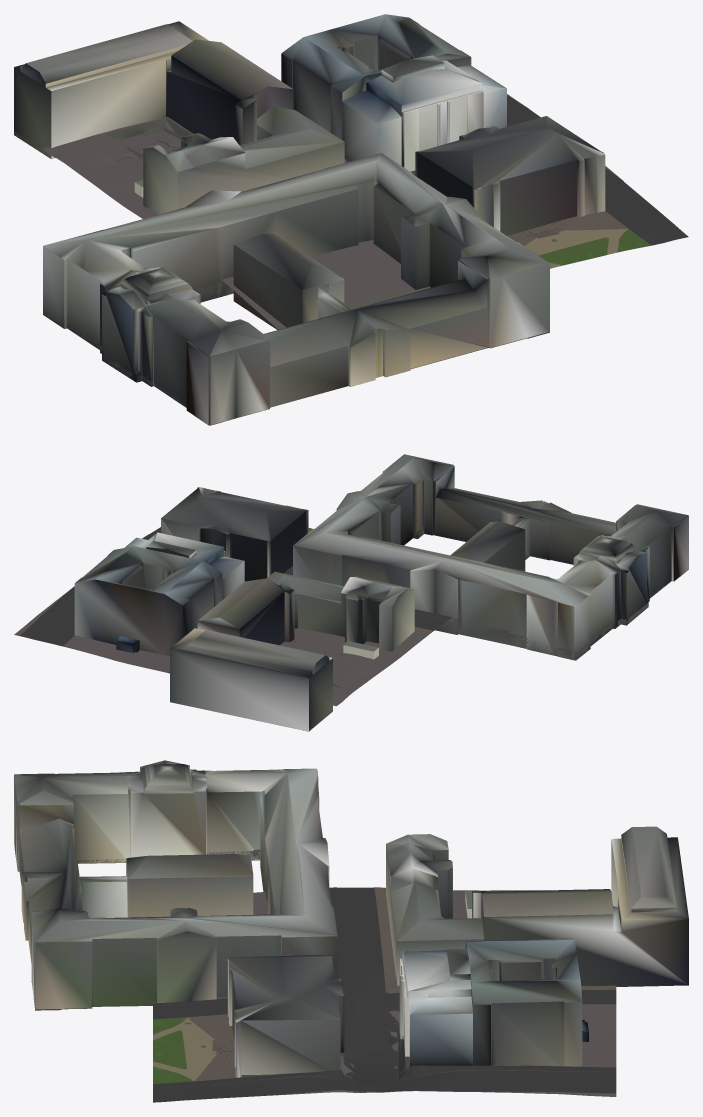
The picture shows the model from 3 angles, top to bottom: view 1: azimuth 30°, elevation 25°; view 2: azimuth 150°, elevation 25°; view 3: azimuth 270°, elevation 25°; orthographic projection. The views are drawn at different scales.
Visible parts, largest first — view 1: c_p01_m01; view 2: c_p01_m01; view 3: c_p01_m01.
Boxes of the visible parts, x1,y1,x2,y2 form: c_p01_m01: (14, 14, 688, 425); c_p01_m01: (14, 454, 688, 731); c_p01_m01: (14, 760, 688, 1102).
Bounding box in the file's own units: 176 × 30.68 × 187.
